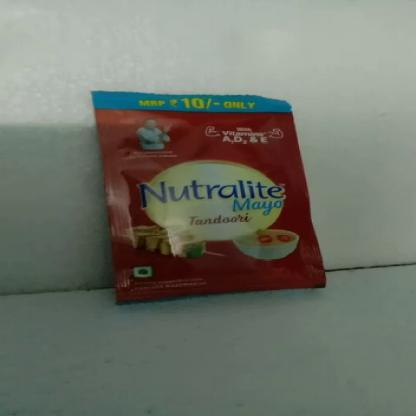Nutralite TANDOORI MAYO 30g: (119, 98, 279, 280)
